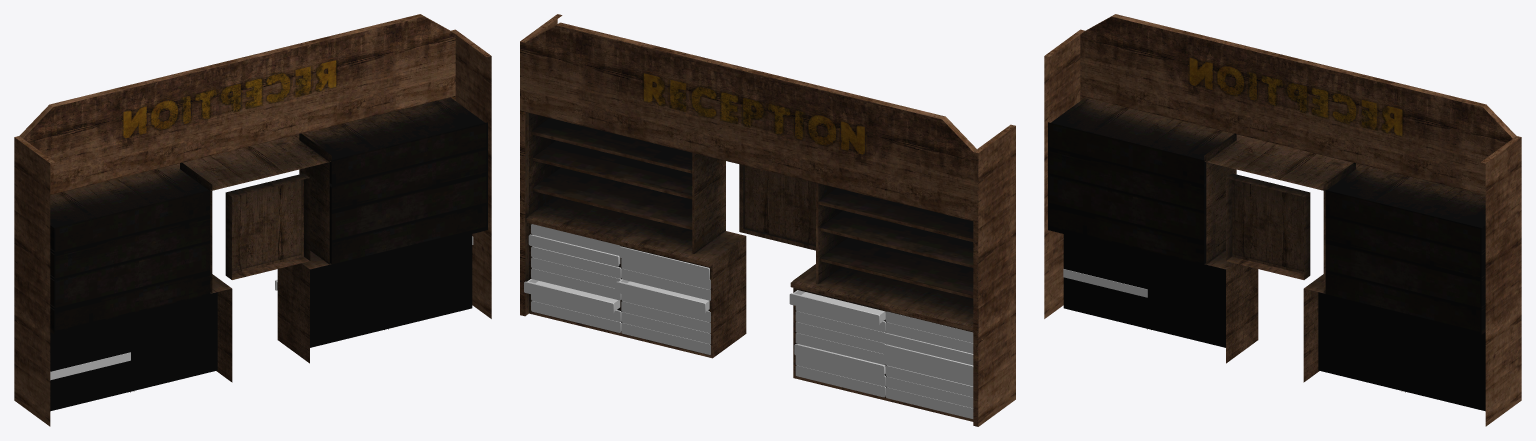
Rendered from Reception_Cupboard.fbx.
3 renders of one model, left to right at view 1: azimuth 30°, elevation 25°; view 2: azimuth 150°, elevation 25°; view 3: azimuth 330°, elevation 25°, orthographic. The views are drawn at different scales.
Visible parts, largest first — view 1: Cube_006, Cube_008; view 2: Cube_006, Cube_008; view 3: Cube_006, Cube_008.
Boxes of the visible parts, x1,y1,x2,y2 form: Cube_006: (14, 14, 491, 426); Cube_008: (50, 236, 473, 380); Cube_006: (520, 14, 1015, 426); Cube_008: (524, 224, 973, 418); Cube_006: (1044, 14, 1521, 426); Cube_008: (1063, 269, 1147, 297).
Bounding box in the file's own units: 22.1 × 13.76 × 3.32.
